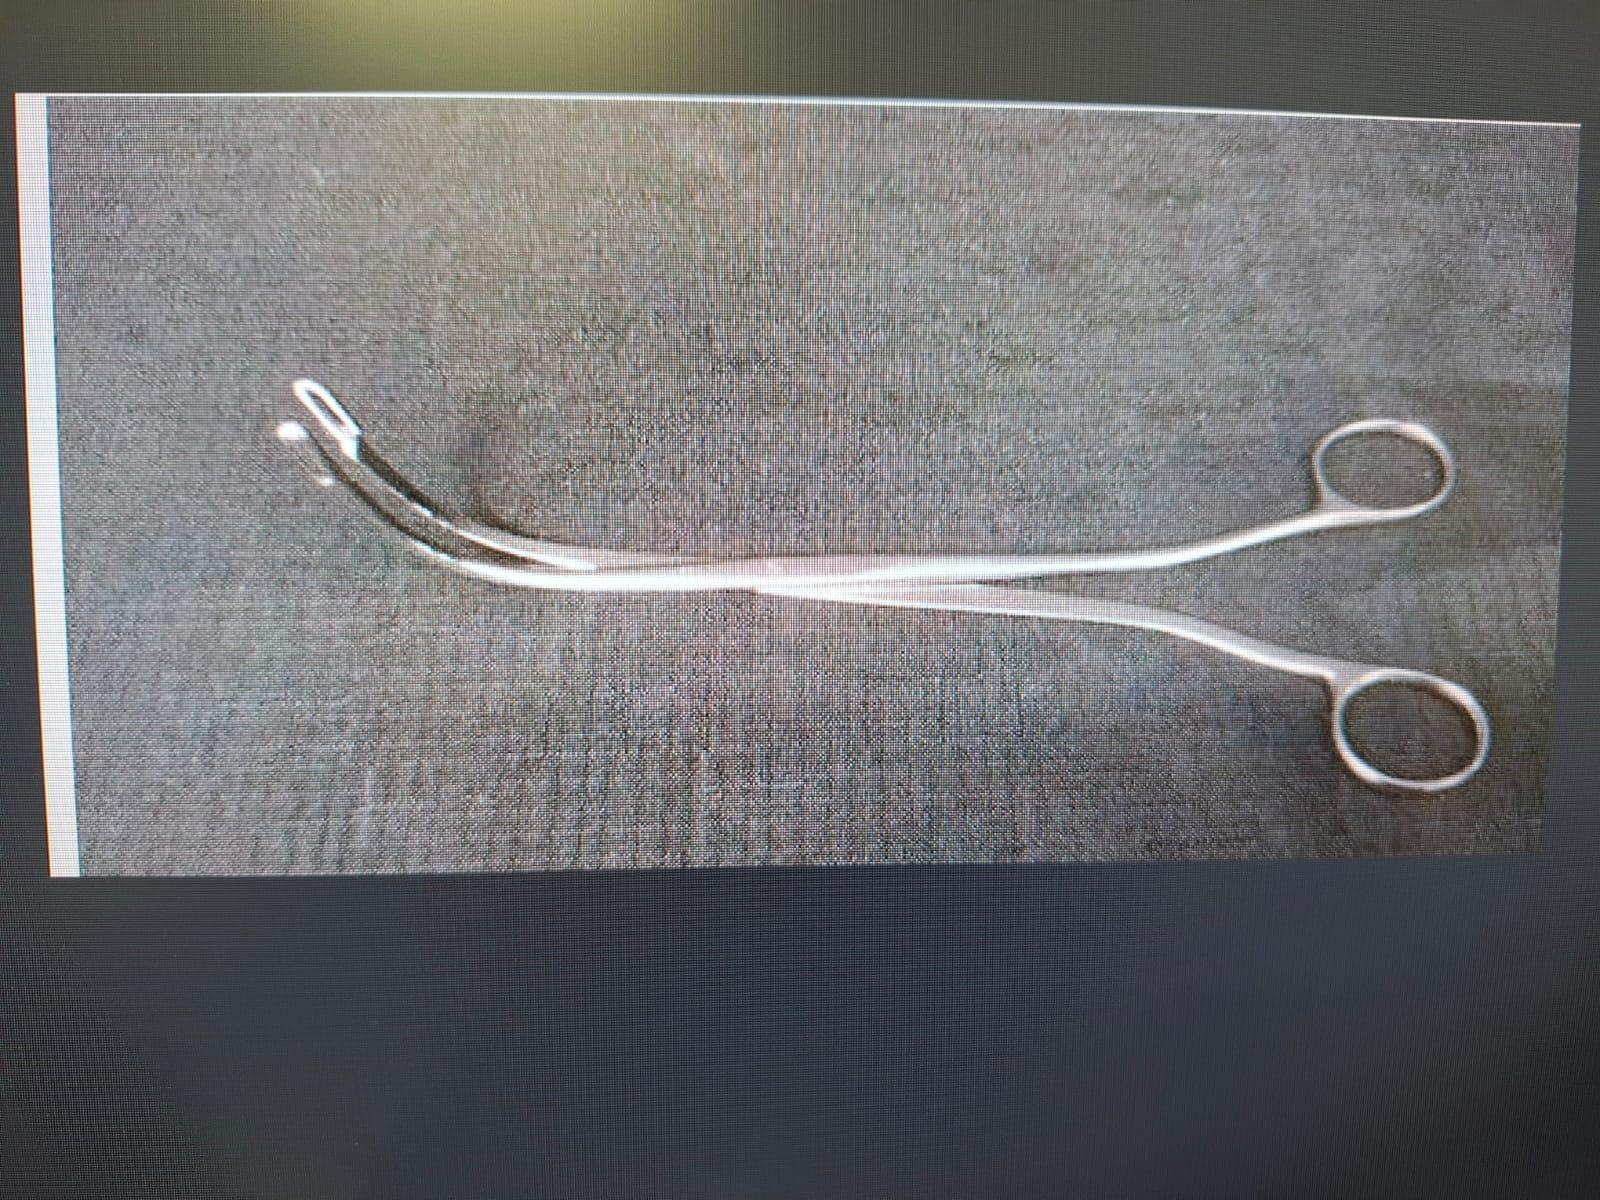Randall Forceps: (270, 334, 1502, 812)
